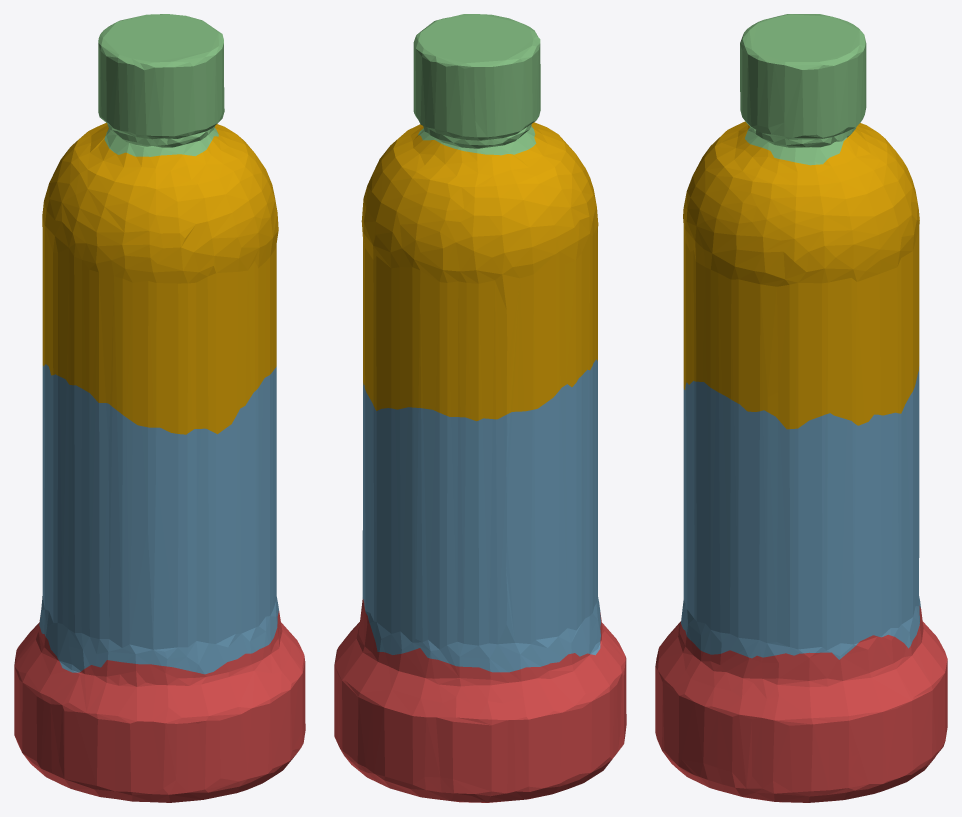
File: mode_3_4pcs.glb
3 views of the same model, side by side, from view 1: azimuth 30°, elevation 25°; view 2: azimuth 150°, elevation 25°; view 3: azimuth 270°, elevation 25° (orthographic).
Visible parts, largest first — view 1: piece_0.obj, piece_2.obj, piece_1.obj, piece_3.obj; view 2: piece_0.obj, piece_2.obj, piece_1.obj, piece_3.obj; view 3: piece_0.obj, piece_2.obj, piece_1.obj, piece_3.obj.
Part boxes in pixels (left/top/right/bottom): piece_0.obj: left=42, top=123, right=278, bottom=434; piece_2.obj: left=39, top=364, right=278, bottom=674; piece_1.obj: left=14, top=611, right=305, bottom=802; piece_3.obj: left=98, top=14, right=224, bottom=156; piece_0.obj: left=361, top=122, right=598, bottom=421; piece_2.obj: left=362, top=359, right=600, bottom=672; piece_1.obj: left=334, top=599, right=626, bottom=802; piece_3.obj: left=413, top=14, right=540, bottom=155; piece_0.obj: left=683, top=121, right=919, bottom=429; piece_2.obj: left=681, top=367, right=920, bottom=659; piece_1.obj: left=655, top=606, right=947, bottom=802; piece_3.obj: left=740, top=14, right=866, bottom=165.
Size of the model in its own units: 0.3732 by 1 by 0.3731.
